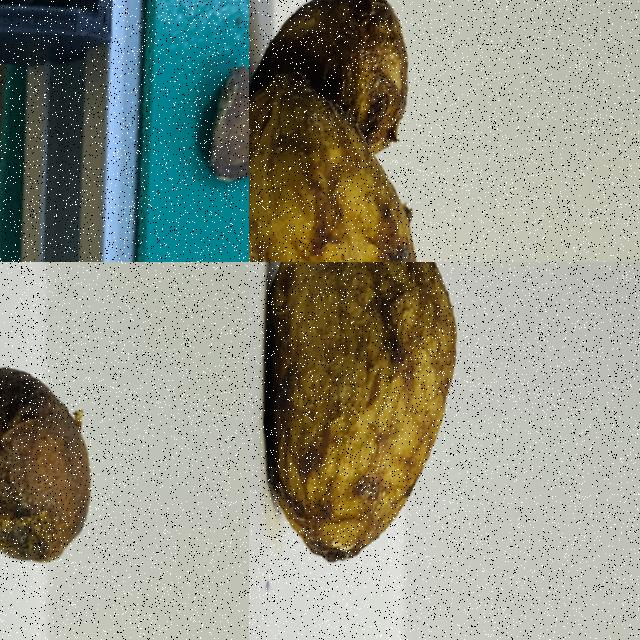Agglomerated_cocoabeans: (249, 0, 474, 261), (0, 262, 131, 639)
Fine_cocoabeans: (249, 262, 500, 628)
Flat_cocoabeans: (150, 0, 248, 261)
